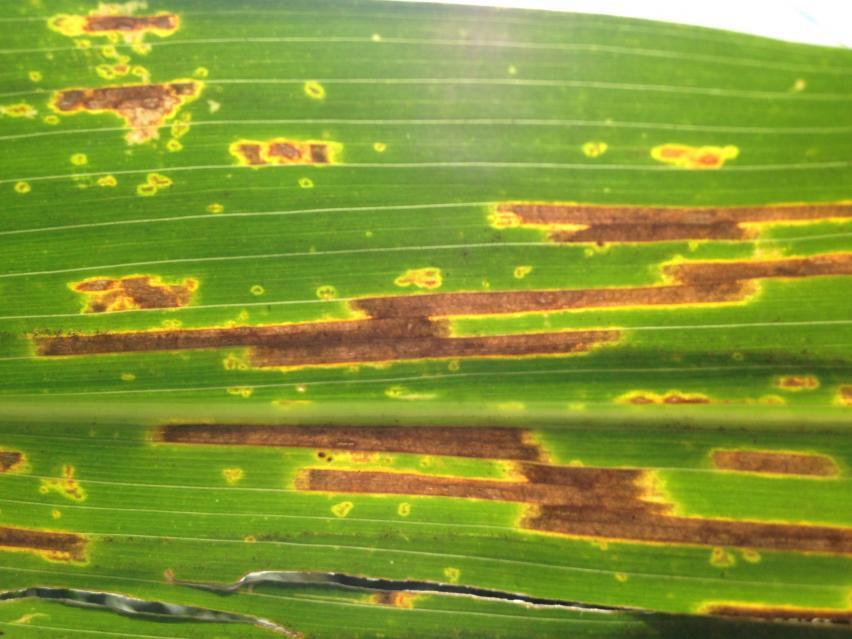Gray_Leaf_Spot: (0, 0, 219, 209), (472, 192, 850, 313), (11, 291, 472, 372), (149, 412, 546, 504), (546, 458, 681, 545), (682, 509, 851, 570), (611, 373, 852, 407), (567, 127, 748, 172), (683, 596, 852, 639), (468, 585, 656, 623), (683, 442, 852, 480), (475, 321, 624, 364), (197, 566, 361, 600), (0, 518, 103, 568), (227, 127, 349, 168), (359, 561, 465, 606), (60, 267, 201, 294), (374, 258, 453, 289), (37, 461, 85, 507), (242, 610, 308, 639), (0, 433, 36, 480), (293, 74, 335, 103), (152, 560, 193, 588), (513, 504, 545, 536), (777, 70, 813, 98), (289, 170, 328, 193), (387, 499, 415, 522), (323, 500, 352, 522), (372, 136, 401, 155), (234, 530, 258, 548), (370, 28, 387, 45), (501, 61, 518, 76)
